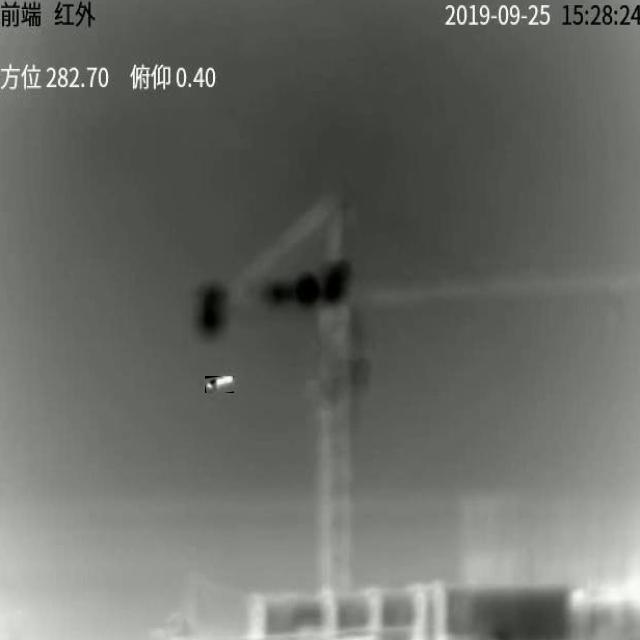drone: (205, 376, 234, 393)
